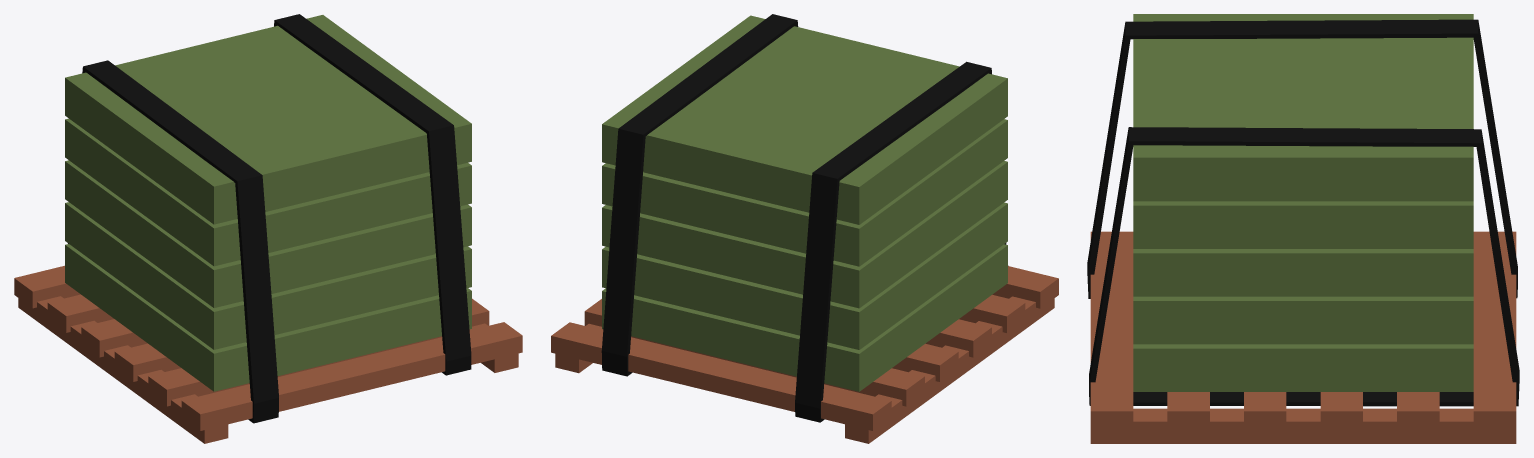
The model's file is shelf-item-6.glb.
The picture shows the model from 3 angles, left to right: view 1: azimuth 30°, elevation 25°; view 2: azimuth 150°, elevation 25°; view 3: azimuth 270°, elevation 25°; orthographic projection. The views are drawn at different scales.
Visible parts, largest first — view 1: shelf-item-6; view 2: shelf-item-6; view 3: shelf-item-6.
Part boxes in pixels (bbox=[...]): shelf-item-6: bbox=[14, 14, 522, 443]; shelf-item-6: bbox=[551, 14, 1058, 443]; shelf-item-6: bbox=[1087, 14, 1519, 443].
Size of the model in its own units: 2 by 1.43 by 2.03.
